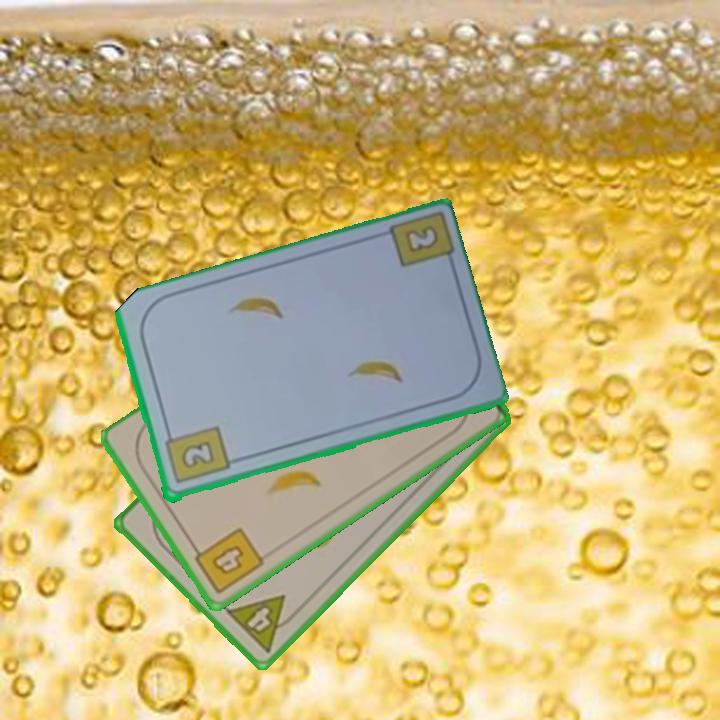2b: (161, 423, 232, 487), (405, 225, 438, 253)
4b: (187, 524, 267, 598)
4p: (222, 591, 303, 656)
